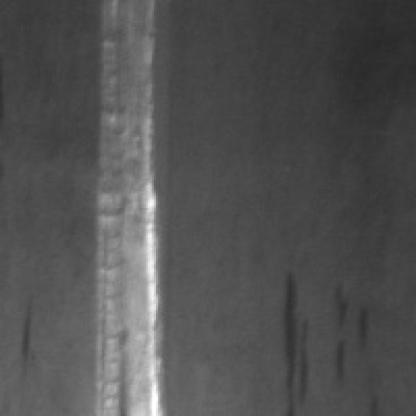inclusion: (274, 266, 310, 400), (329, 276, 368, 380), (12, 300, 40, 370)
scratches: (85, 0, 156, 412)
